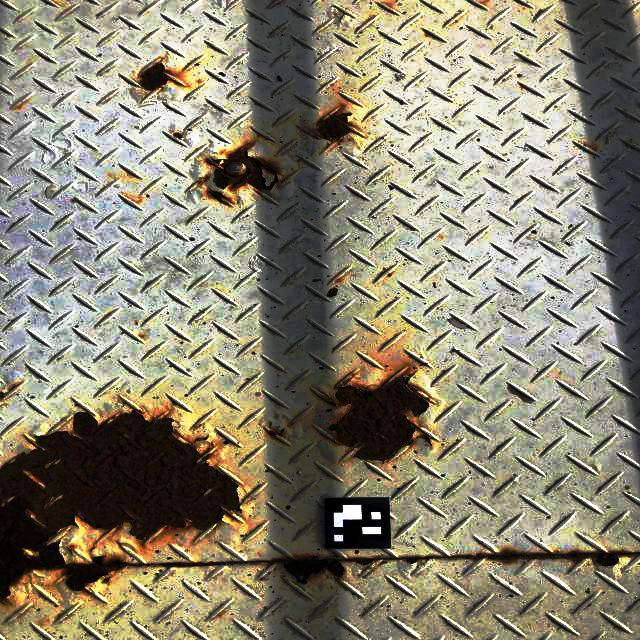Corrosion: (0, 412, 240, 600), (316, 376, 430, 462), (197, 137, 279, 208), (284, 556, 375, 584), (308, 113, 362, 142), (137, 58, 175, 94), (0, 380, 20, 403), (598, 553, 623, 568), (501, 548, 521, 561), (569, 550, 587, 564), (267, 426, 286, 437), (403, 558, 430, 564), (174, 133, 183, 140)
